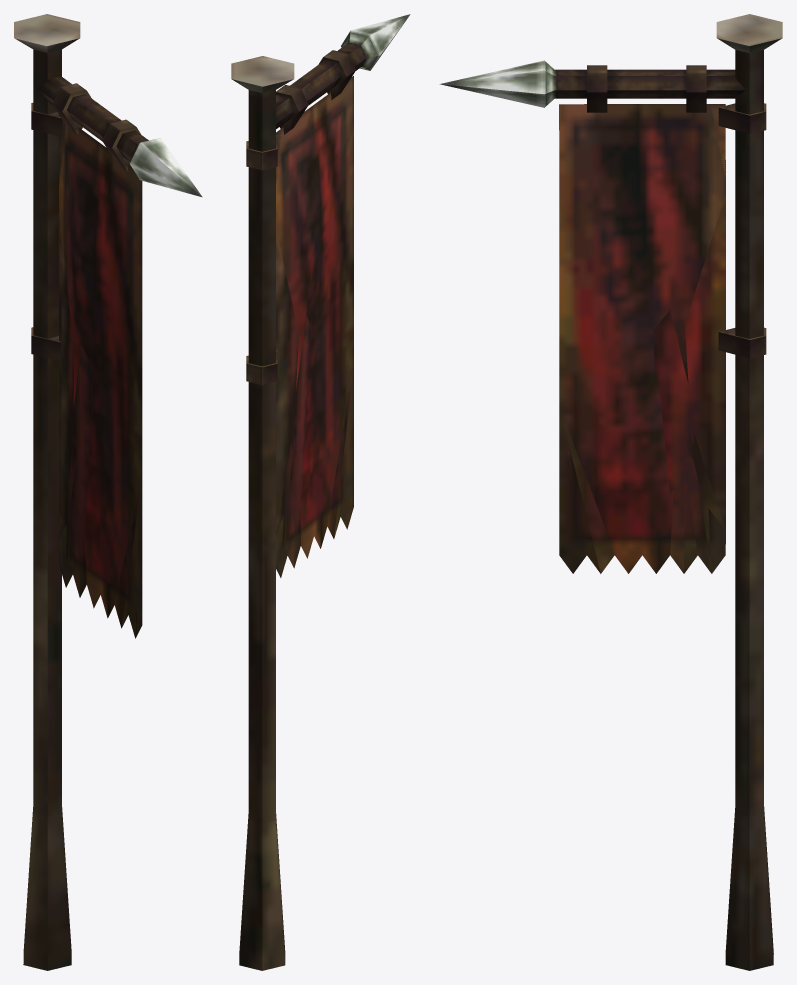
Rendered from general_obj_flag_01.fbx.
The picture shows the model from 3 angles, left to right: view 1: azimuth 30°, elevation 25°; view 2: azimuth 150°, elevation 25°; view 3: azimuth 270°, elevation 25°; orthographic projection. The views are drawn at different scales.
Parts seen in each view (by area): view 1: Object03; view 2: Object03; view 3: Object03.
Boxes of the visible parts, x1=… form: Object03: x1=14, y1=14, x2=202, y2=970; Object03: x1=231, y1=14, x2=410, y2=970; Object03: x1=439, y1=14, x2=782, y2=970.
Bounding box in the file's own units: 0.27 × 3.63 × 1.22.
